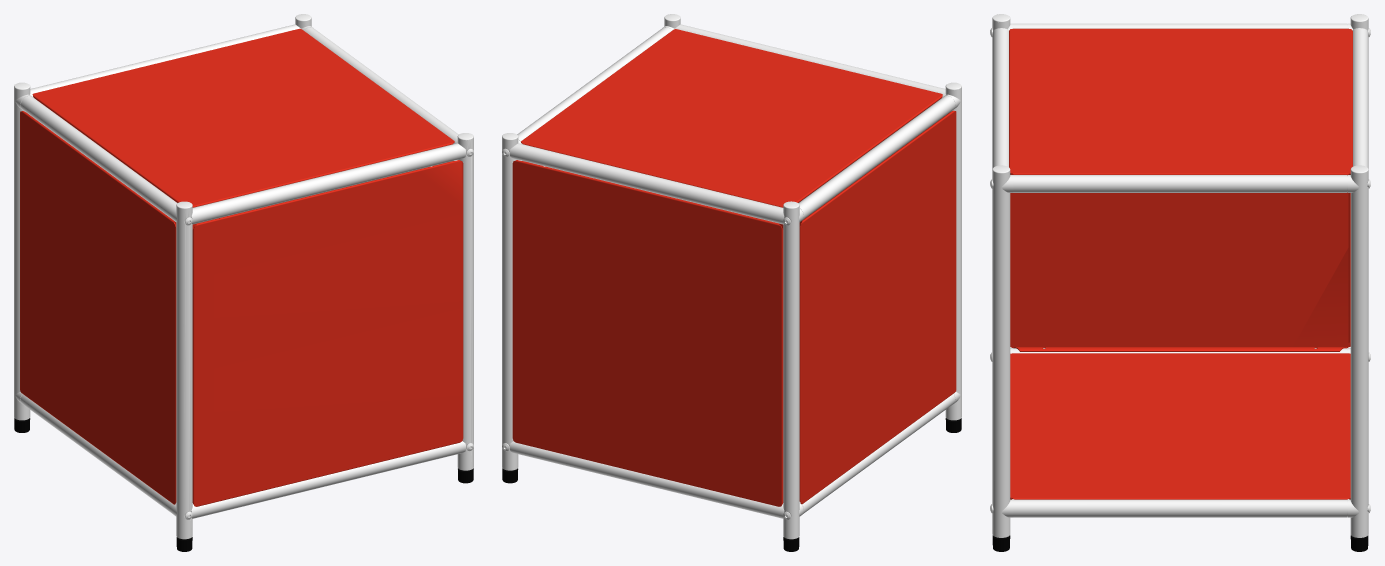
File: 40x40x40-2-3-red_optimized_optimized.glb
3 renders of one model, left to right at view 1: azimuth 30°, elevation 25°; view 2: azimuth 150°, elevation 25°; view 3: azimuth 270°, elevation 25°, orthographic. The views are drawn at different scales.
Visible parts, largest first — view 1: 直角鐵板-40x40-5 - 零件, 反-鐵管-40-354..4-1 - 零件, 圓形腳+調整器-1 - 零件; view 2: 直角鐵板-40x40-5 - 零件, 反-鐵管-40-354..4-1 - 零件, 圓形腳+調整器-1 - 零件; view 3: 直角鐵板-40x40-5 - 零件, 反-鐵管-40-354..4-1 - 零件, 圓形腳+調整器-1 - 零件.
Part boxes in pixels (<box>): 直角鐵板-40x40-5 - 零件: <box>20,28,463,506</box>; 反-鐵管-40-354..4-1 - 零件: <box>14,14,473,539</box>; 圓形腳+調整器-1 - 零件: <box>14,418,473,551</box>; 直角鐵板-40x40-5 - 零件: <box>512,29,956,506</box>; 反-鐵管-40-354..4-1 - 零件: <box>502,14,961,539</box>; 圓形腳+調整器-1 - 零件: <box>502,418,961,551</box>; 直角鐵板-40x40-5 - 零件: <box>1009,28,1352,499</box>; 反-鐵管-40-354..4-1 - 零件: <box>990,14,1370,537</box>; 圓形腳+調整器-1 - 零件: <box>992,535,1368,551</box>.
Bounding box in the file's own units: 0.3992 × 0.4453 × 0.4035.
